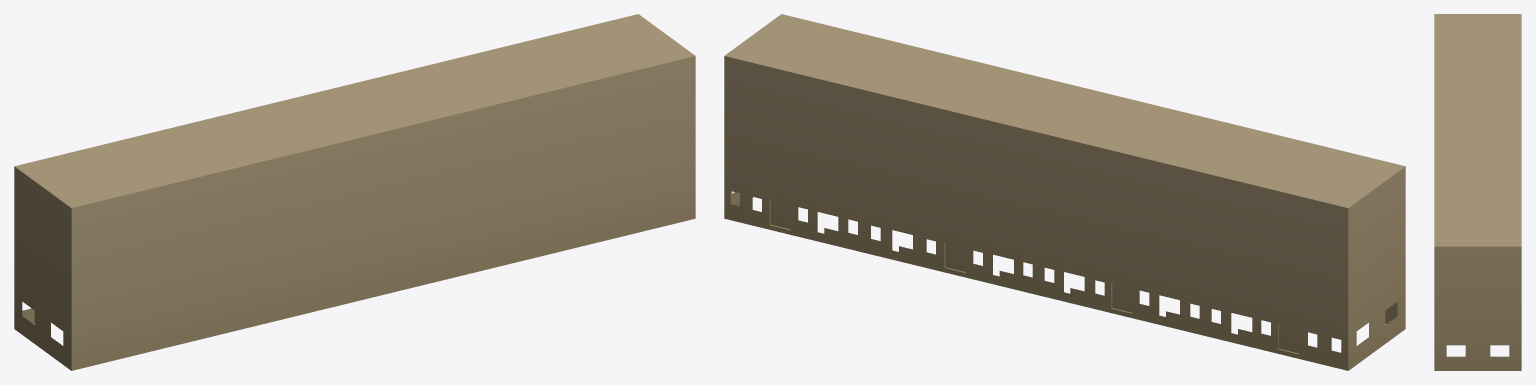
The model's file is Evro_Fasad.fbx.
3 renders of one model, left to right at view 1: azimuth 30°, elevation 25°; view 2: azimuth 150°, elevation 25°; view 3: azimuth 270°, elevation 25°, orthographic. The views are drawn at different scales.
Visible parts, largest first — view 1: Evro_Fasad; view 2: Evro_Fasad; view 3: Evro_Fasad.
Boxes of the visible parts, <box> form: Evro_Fasad: <box>14,14,695,370</box>; Evro_Fasad: <box>724,14,1405,370</box>; Evro_Fasad: <box>1434,14,1521,370</box>.
Bounding box in the file's own units: 154 × 24.46 × 38.34.
